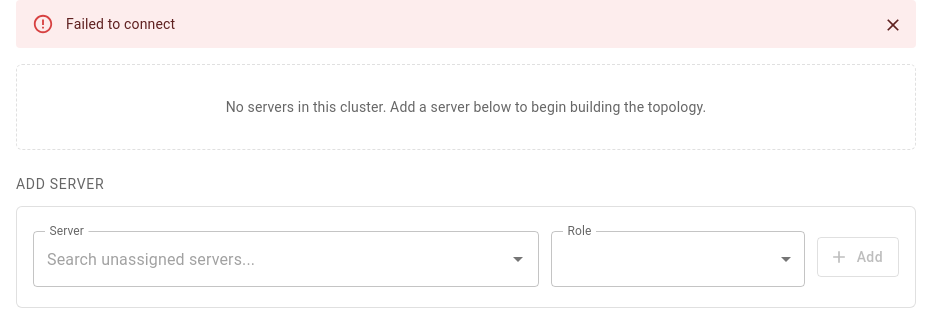
Test case: TopologyPanel › displays error alert and allows dismissal
Check: the text "Failed to connect" is shown, box left=66, top=16, right=175, bottom=32
Click the button named "close" at (893, 25), box left=878, top=10, right=908, bottom=40
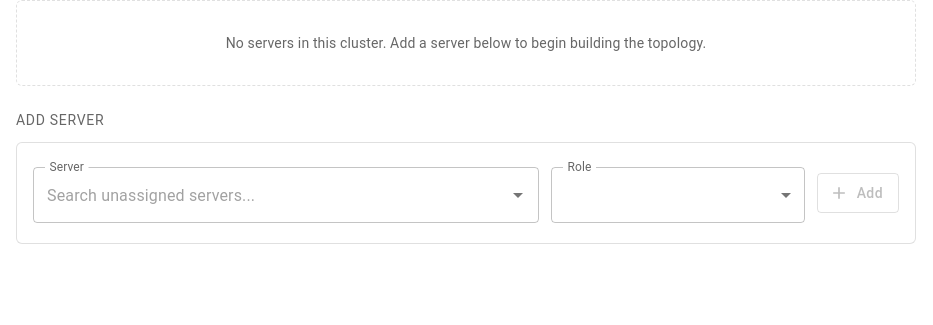
Check: the text "Failed to connect" is gone
